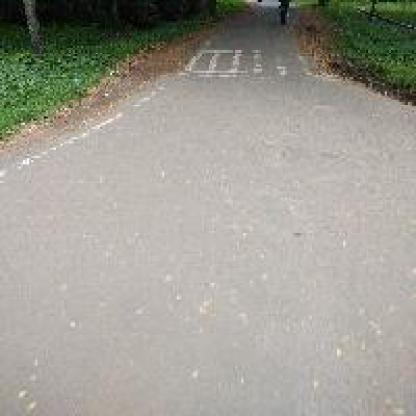Speed Bump: (185, 48, 306, 77)
